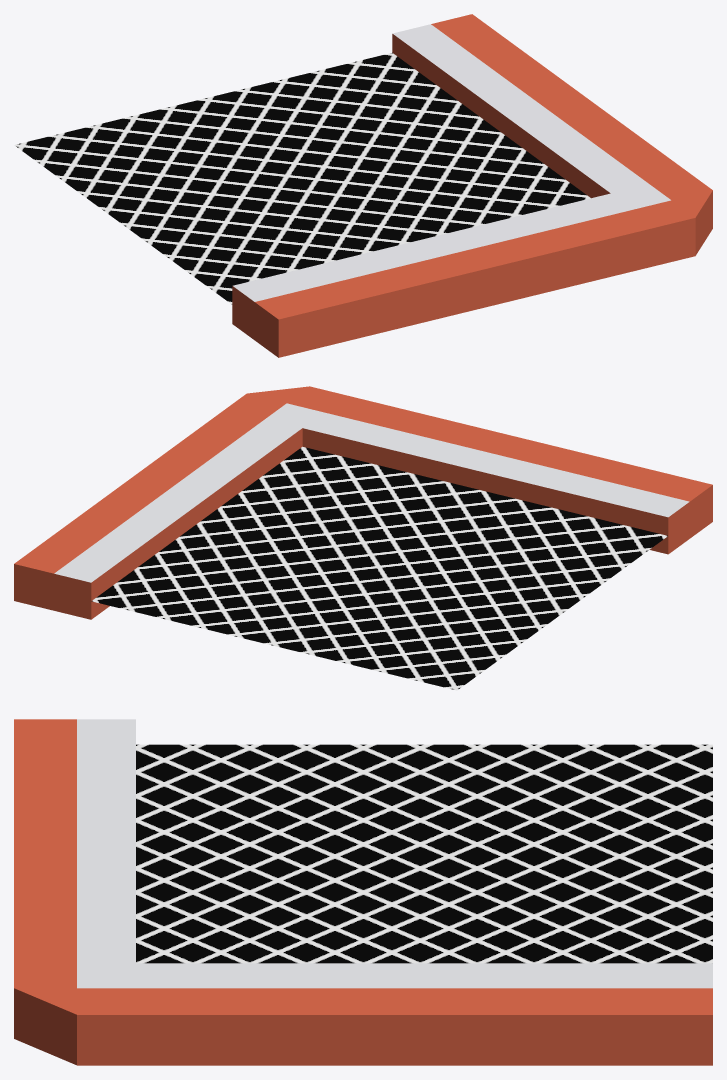
The model's file is metalTileConnectCorner.glb.
3 views of the same model, one above another, from view 1: azimuth 30°, elevation 25°; view 2: azimuth 150°, elevation 25°; view 3: azimuth 270°, elevation 25° (orthographic). The views are drawn at different scales.
Visible parts, largest first — view 1: metalTileConnectCorner; view 2: metalTileConnectCorner; view 3: metalTileConnectCorner.
Boxes of the visible parts, x1,y1,x2,y2 form: metalTileConnectCorner: [14, 14, 712, 357]; metalTileConnectCorner: [14, 386, 712, 690]; metalTileConnectCorner: [14, 719, 712, 1065].
Bounding box in the file's own units: 10 × 0.8 × 10.
3 materials, 1 textured.
